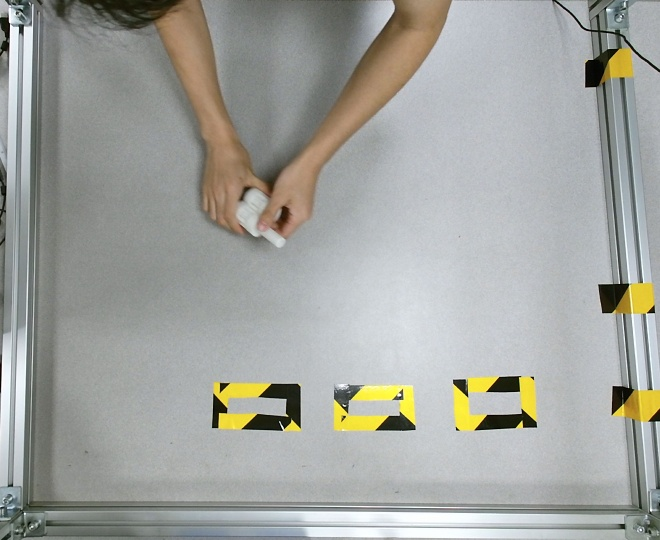stage_4: (233, 185, 285, 247)
